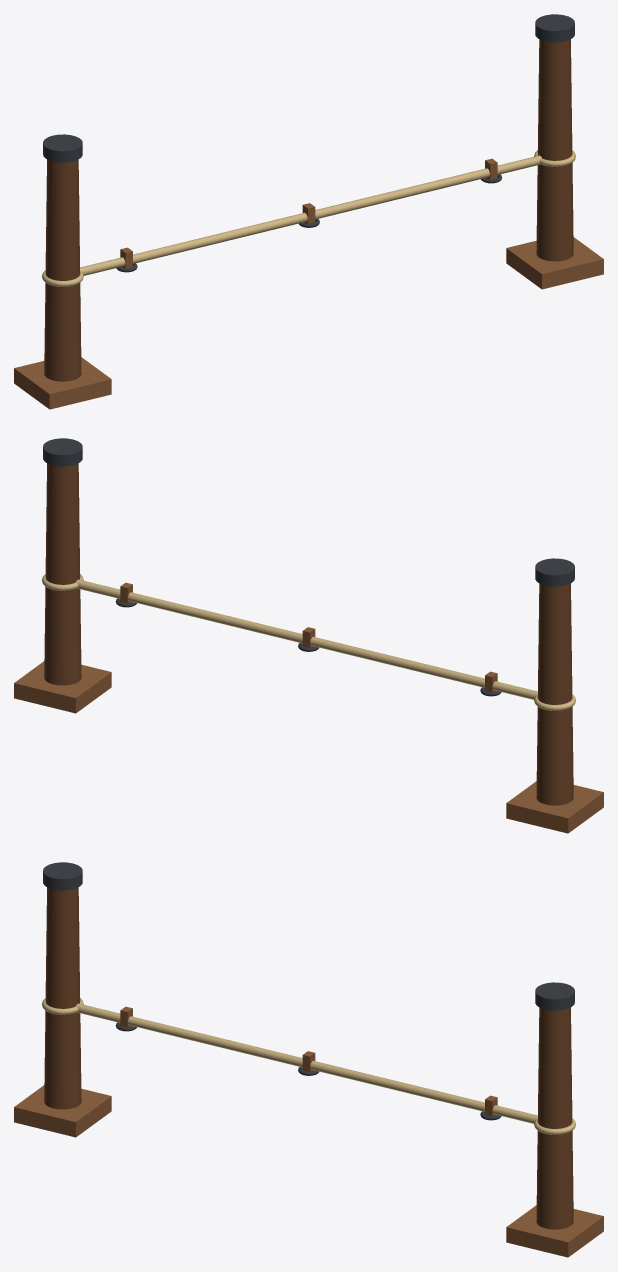
Rendered from tendedero.glb.
3 renders of one model, top to bottom at view 1: azimuth 30°, elevation 25°; view 2: azimuth 150°, elevation 25°; view 3: azimuth 330°, elevation 25°, orthographic.
Visible parts, largest first — view 1: Poste, _MeshInstance3D_83427, CuerdaPrincipal, _MeshInstance3D_83428, BasePoste, TopePoste, _MeshInstance3D_83430; view 2: Poste, _MeshInstance3D_83427, CuerdaPrincipal, _MeshInstance3D_83428, BasePoste, TopePoste, _MeshInstance3D_83430; view 3: _MeshInstance3D_83427, Poste, CuerdaPrincipal, BasePoste, _MeshInstance3D_83428, _MeshInstance3D_83430, TopePoste.
Boxes of the visible parts, x1,y1,x2,y2 form: Poste: (44,159,81,381); _MeshInstance3D_83427: (536,39,573,261); CuerdaPrincipal: (80,155,541,275); _MeshInstance3D_83428: (506,237,603,289); BasePoste: (14,357,111,409); TopePoste: (43,134,82,162); _MeshInstance3D_83430: (535,14,574,42); Poste: (536,583,573,805); _MeshInstance3D_83427: (44,463,81,685); CuerdaPrincipal: (76,579,537,699); _MeshInstance3D_83428: (14,661,111,713); BasePoste: (506,781,603,833); TopePoste: (535,558,574,586); _MeshInstance3D_83430: (43,438,82,466); _MeshInstance3D_83427: (536,1007,573,1229); Poste: (44,887,81,1109); CuerdaPrincipal: (76,1003,537,1123); BasePoste: (14,1085,111,1137); _MeshInstance3D_83428: (506,1205,603,1257); _MeshInstance3D_83430: (535,982,574,1010); TopePoste: (43,862,82,890).
Size of the model in its own units: 3.04 by 1.29 by 0.34.
